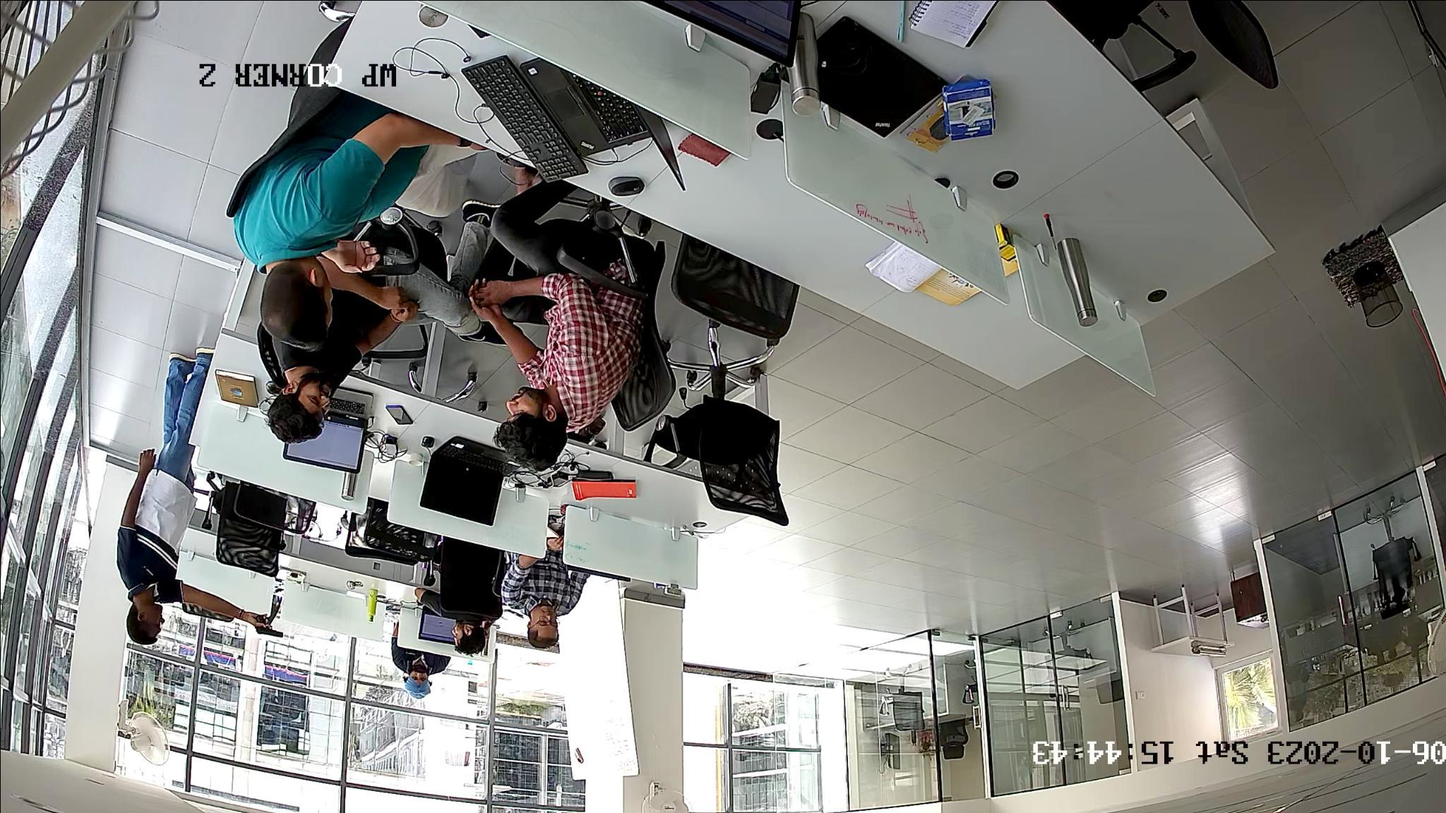gun: (255, 614, 282, 638)
